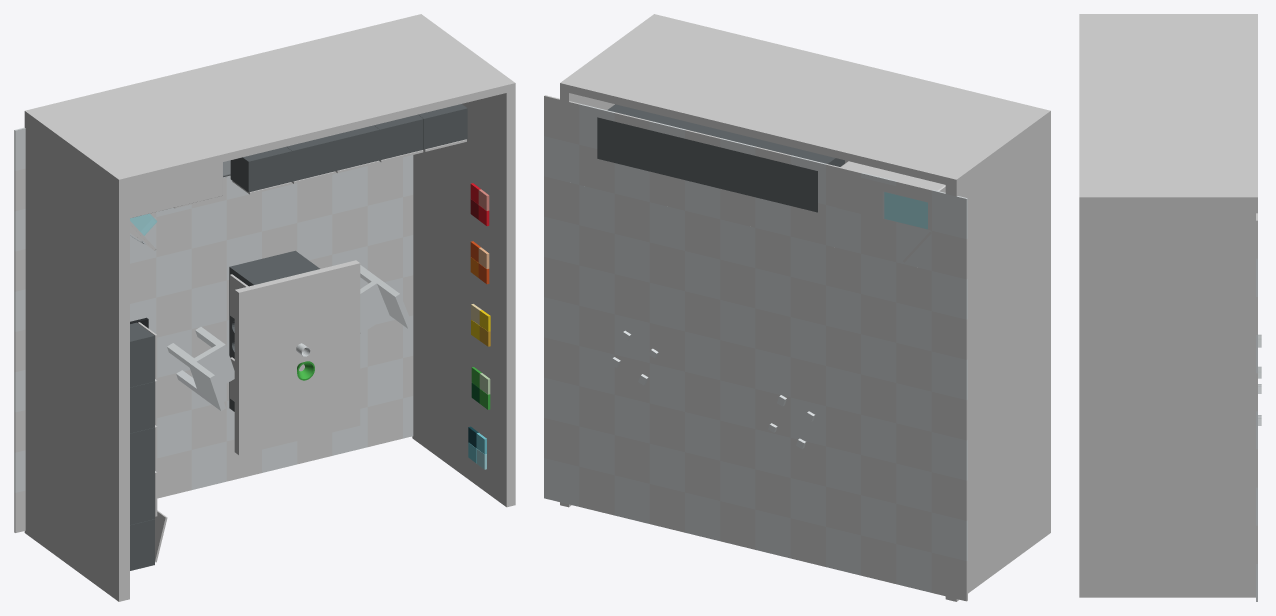
The model's file is tinker.obj.
3 renders of one model, left to right at view 1: azimuth 30°, elevation 25°; view 2: azimuth 150°, elevation 25°; view 3: azimuth 270°, elevation 25°, orthographic. The views are drawn at different scales.
Visible parts, largest first — view 1: group_0_16448250, group_0_14541540, group_0_6383466; view 2: group_0_16448250, group_0_14541540, group_0_6383466, group_0_11593967; view 3: group_0_16448250, group_0_14541540.
Boxes of the visible parts, <box> form: group_0_16448250: <box>14,14,515,601</box>; group_0_14541540: <box>14,127,413,492</box>; group_0_6383466: <box>130,104,467,570</box>; group_0_16448250: <box>544,14,1050,601</box>; group_0_14541540: <box>544,104,967,592</box>; group_0_6383466: <box>597,104,844,212</box>; group_0_11593967: <box>884,192,927,229</box>; group_0_16448250: <box>1079,14,1257,597</box>; group_0_14541540: <box>1256,258,1261,601</box>.
Size of the model in its own units: 383 by 365 by 151.
